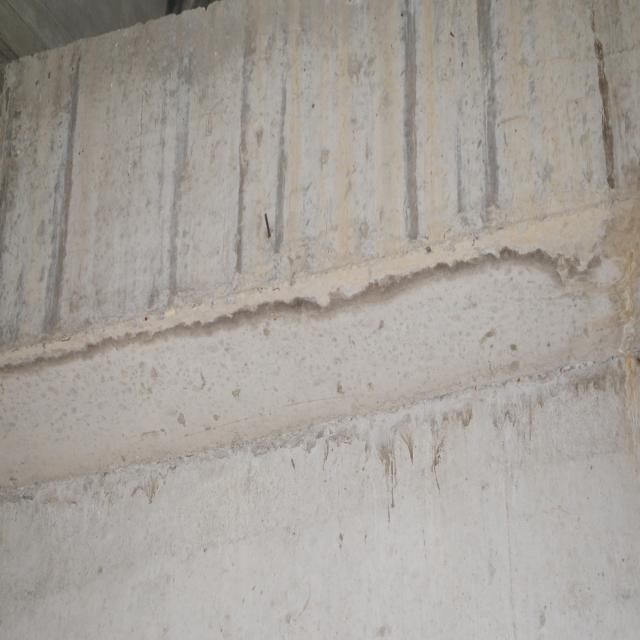Rebar: (264, 210, 272, 241)
